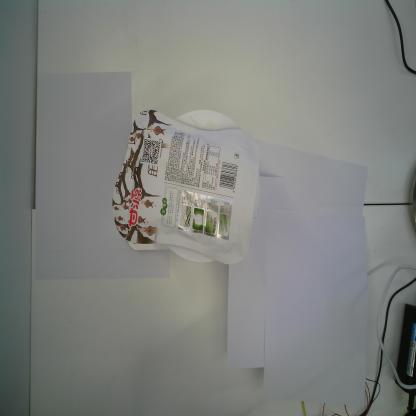Dried Fruit: (112, 108, 260, 266)
